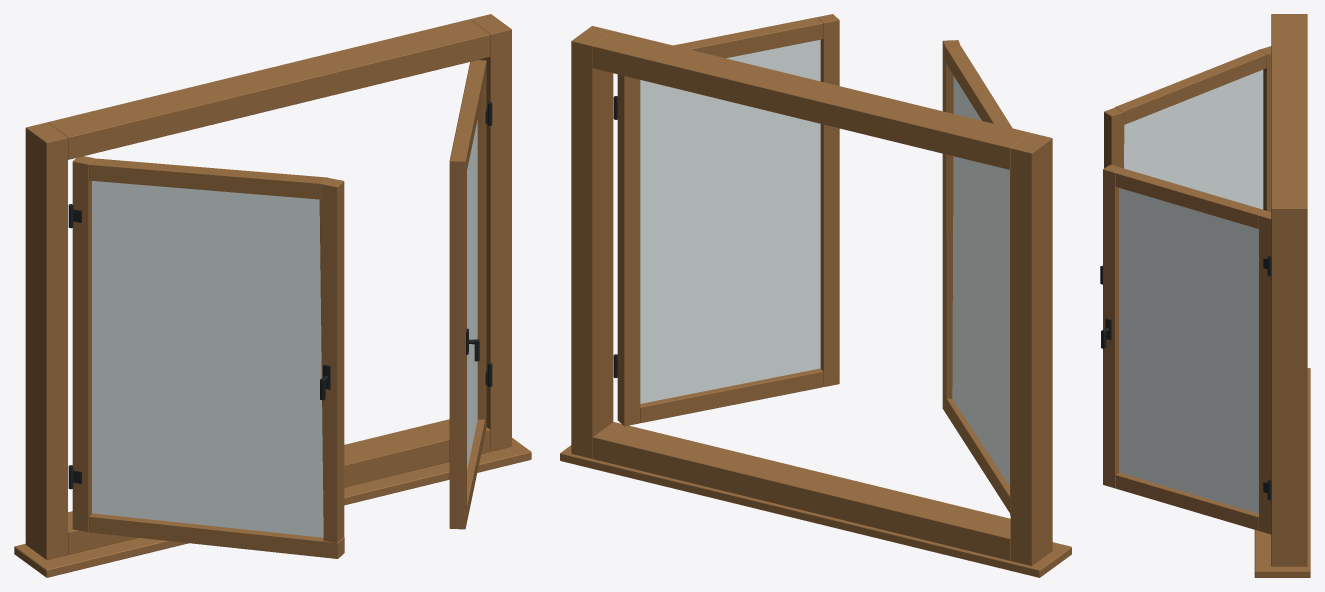
The model's file is Ventana_abierta_dos_hojas.fbx.
3 renders of one model, left to right at view 1: azimuth 30°, elevation 25°; view 2: azimuth 150°, elevation 25°; view 3: azimuth 270°, elevation 25°, orthographic. The views are drawn at different scales.
Parts seen in each view (by area): view 1: Vidrio izquierda, Marco fijo - lateral izquierdo, Marco fijo - travesano superior, Marco fijo - lateral derecho, Hoja izquierda - montante manija, Hoja izquierda - montante bisagra, Hoja derecha - montante manija, Marco fijo - travesano inferior, Repisa inferior de madera, Hoja izquierda - travesano superior, Hoja izquierda - travesano inferior, Hoja derecha - montante bisagra (+3 smaller); view 2: Vidrio derecha, Marco fijo - lateral izquierdo, Marco fijo - travesano superior, Marco fijo - travesano inferior, Marco fijo - lateral derecho, Vidrio izquierda, Hoja derecha - montante bisagra, Hoja derecha - montante manija, Repisa inferior de madera, Hoja derecha - travesano inferior, Hoja izquierda - montante manija, Hoja derecha - travesano superior (+2 smaller); view 3: Vidrio derecha, Marco fijo - lateral derecho, Vidrio izquierda, Marco fijo - travesano superior, Hoja derecha - montante manija, Hoja derecha - montante bisagra, Hoja izquierda - travesano superior, Hoja derecha - travesano superior, Hoja derecha - travesano inferior, Repisa inferior de madera, Hoja izquierda - montante bisagra, Hoja izquierda - montante manija (+1 smaller).
Part boxes in pixels (<box>): Vidrio izquierda: <box>92,181,323,537</box>; Marco fijo - lateral izquierdo: <box>25,122,67,559</box>; Marco fijo - travesano superior: <box>47,19,490,159</box>; Marco fijo - lateral derecho: <box>470,14,511,451</box>; Hoja izquierda - montante manija: <box>319,178,344,553</box>; Hoja izquierda - montante bisagra: <box>72,156,94,532</box>; Hoja derecha - montante manija: <box>449,153,466,529</box>; Marco fijo - travesano inferior: <box>68,419,490,554</box>; Repisa inferior de madera: <box>14,438,531,577</box>; Hoja izquierda - travesano superior: <box>89,158,328,199</box>; Hoja izquierda - travesano inferior: <box>89,513,344,558</box>; Hoja derecha - montante bisagra: <box>469,60,486,434</box>; Vidrio derecha: <box>640,39,820,403</box>; Marco fijo - lateral izquierdo: <box>1010,133,1052,566</box>; Marco fijo - travesano superior: <box>592,31,1030,169</box>; Marco fijo - travesano inferior: <box>592,422,1010,560</box>; Marco fijo - lateral derecho: <box>571,26,613,458</box>; Vidrio izquierda: <box>952,76,1009,486</box>; Hoja derecha - montante bisagra: <box>617,74,640,426</box>; Hoja derecha - montante manija: <box>817,14,839,386</box>; Repisa inferior de madera: <box>560,445,1071,577</box>; Hoja derecha - travesano inferior: <box>640,368,823,422</box>; Hoja izquierda - montante manija: <box>942,40,960,404</box>; Hoja derecha - travesano superior: <box>673,17,823,58</box>; Vidrio derecha: <box>1119,188,1258,513</box>; Marco fijo - lateral derecho: <box>1271,200,1307,566</box>; Vidrio izquierda: <box>1124,70,1263,209</box>; Marco fijo - travesano superior: <box>1271,23,1307,199</box>; Hoja derecha - montante manija: <box>1103,164,1122,488</box>; Hoja derecha - montante bisagra: <box>1259,211,1271,534</box>; Hoja izquierda - travesano superior: <box>1115,50,1266,124</box>; Hoja derecha - travesano superior: <box>1115,168,1265,228</box>; Hoja derecha - travesano inferior: <box>1115,472,1258,530</box>; Repisa inferior de madera: <box>1254,368,1310,577</box>; Hoja izquierda - montante bisagra: <box>1259,46,1271,211</box>; Hoja izquierda - montante manija: <box>1104,107,1124,168</box>.
Bounding box in the file's own units: 2478 × 2077 × 1084.
